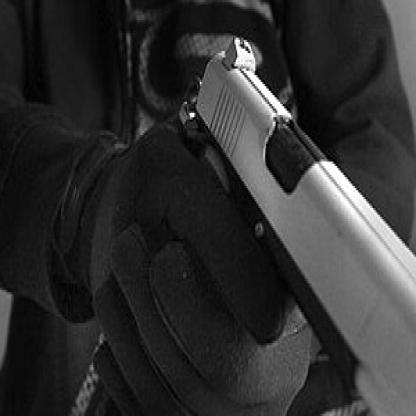gun: (165, 15, 415, 414)
